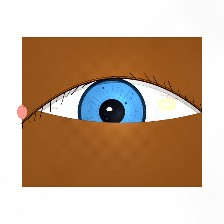pinguecula_lesion: (148, 89, 186, 120)
